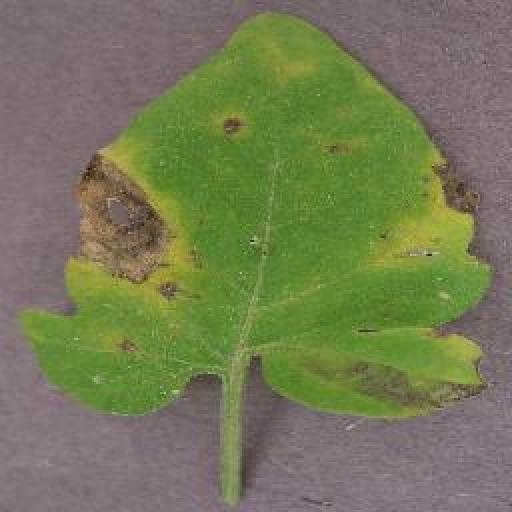Septoria: (18, 8, 496, 416)
